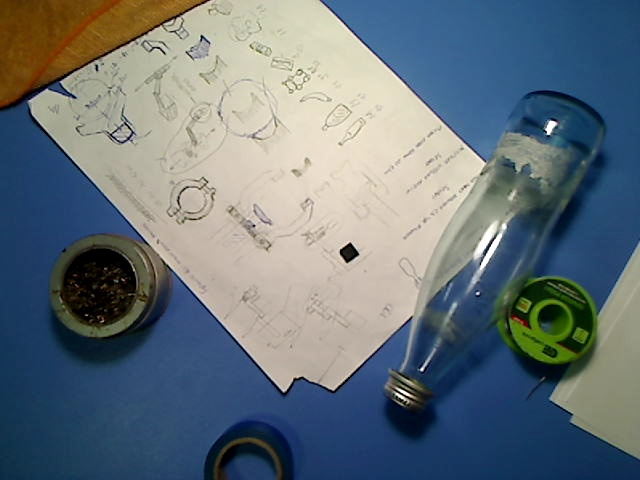bottle: (382, 89, 610, 416)
